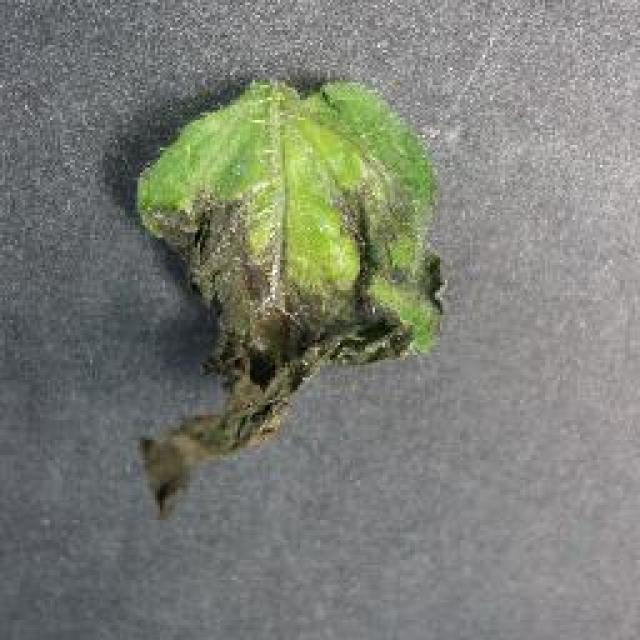Tomato_Late_Blight: (85, 182, 448, 522)
